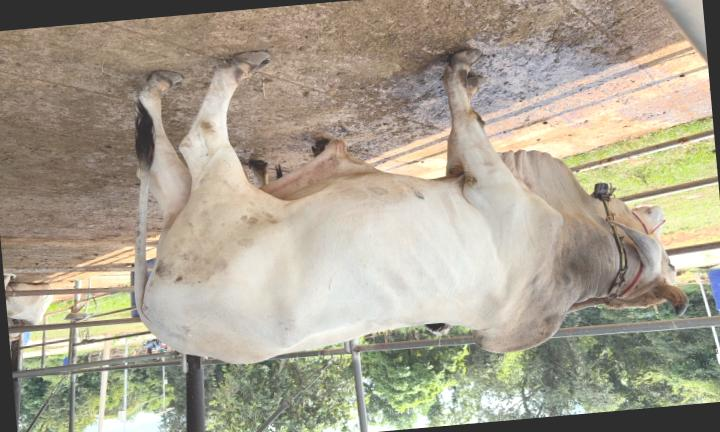Brahman: (135, 49, 688, 363)
